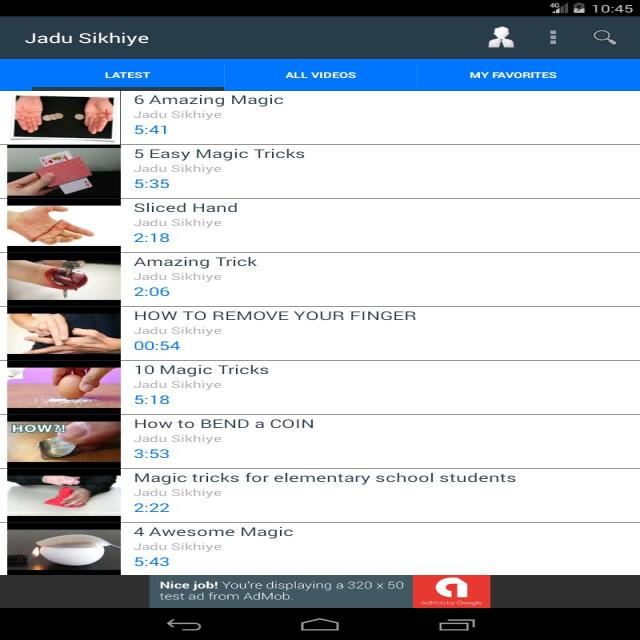button: (0, 251, 637, 307), (0, 467, 637, 523), (2, 90, 638, 145), (0, 413, 629, 468), (0, 524, 640, 577), (2, 199, 639, 252), (0, 361, 640, 413), (0, 308, 637, 360), (0, 146, 638, 196), (33, 60, 224, 91), (240, 60, 408, 91), (444, 60, 591, 90), (478, 24, 521, 56), (586, 24, 627, 50), (545, 26, 561, 51)
heading: (131, 471, 521, 485), (130, 308, 420, 323), (131, 416, 318, 431), (20, 30, 152, 51), (128, 147, 309, 162), (130, 524, 300, 538), (131, 361, 273, 377), (126, 93, 284, 107), (129, 254, 260, 270), (130, 199, 242, 215)
iframe: (150, 576, 491, 610)
image: (8, 148, 118, 196), (5, 205, 120, 248), (14, 95, 120, 141), (6, 312, 119, 355), (8, 529, 118, 573), (10, 419, 121, 462), (7, 258, 118, 300), (8, 365, 120, 406), (8, 477, 120, 516)
text: (128, 538, 228, 572), (131, 432, 225, 464), (126, 163, 226, 193), (128, 324, 227, 353), (130, 216, 225, 246), (129, 379, 225, 408), (131, 486, 223, 516), (130, 110, 225, 138), (130, 272, 228, 298)
